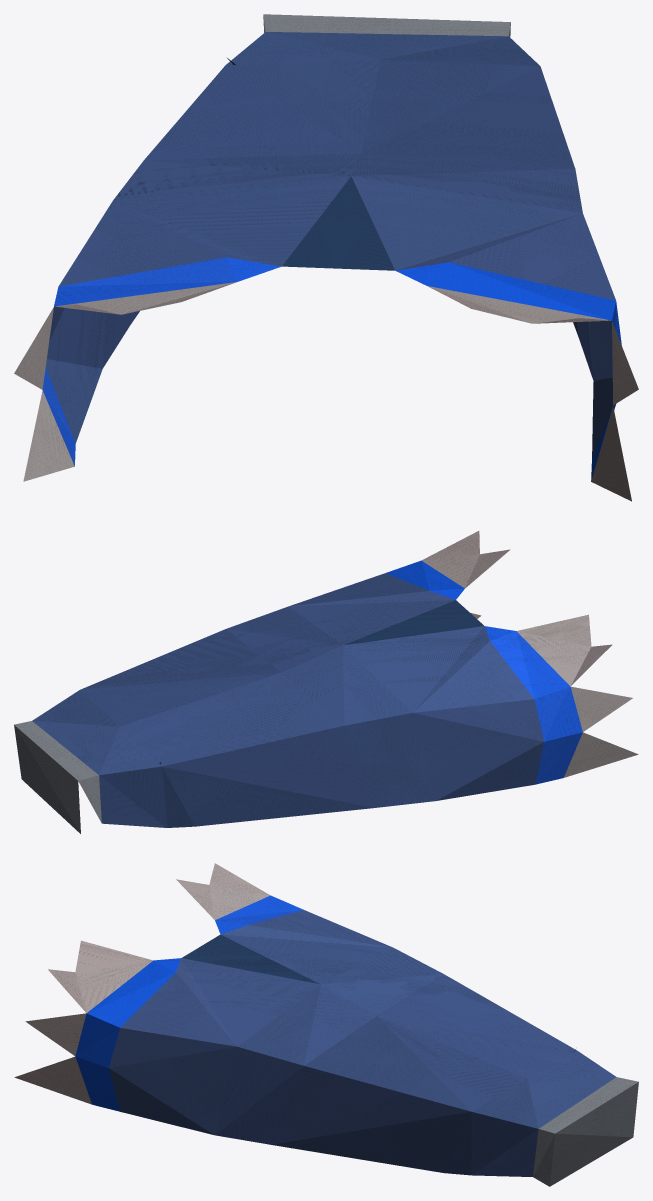
File: mystic-robe-bottom.obj
The picture shows the model from 3 angles, top to bottom: view 1: azimuth 30°, elevation 25°; view 2: azimuth 150°, elevation 25°; view 3: azimuth 270°, elevation 25°; orthographic projection. The views are drawn at different scales.
Visible parts, largest first — view 1: Item Mystic robe bottom 2026-09-24_18-00-39; view 2: Item Mystic robe bottom 2026-09-24_18-00-39; view 3: Item Mystic robe bottom 2026-09-24_18-00-39.
Part boxes in pixels (<box>): Item Mystic robe bottom 2026-09-24_18-00-39: <box>14,14,638,501</box>; Item Mystic robe bottom 2026-09-24_18-00-39: <box>14,531,638,833</box>; Item Mystic robe bottom 2026-09-24_18-00-39: <box>14,863,638,1186</box>.
Bounding box in the file's own units: 95 × 25 × 112.
